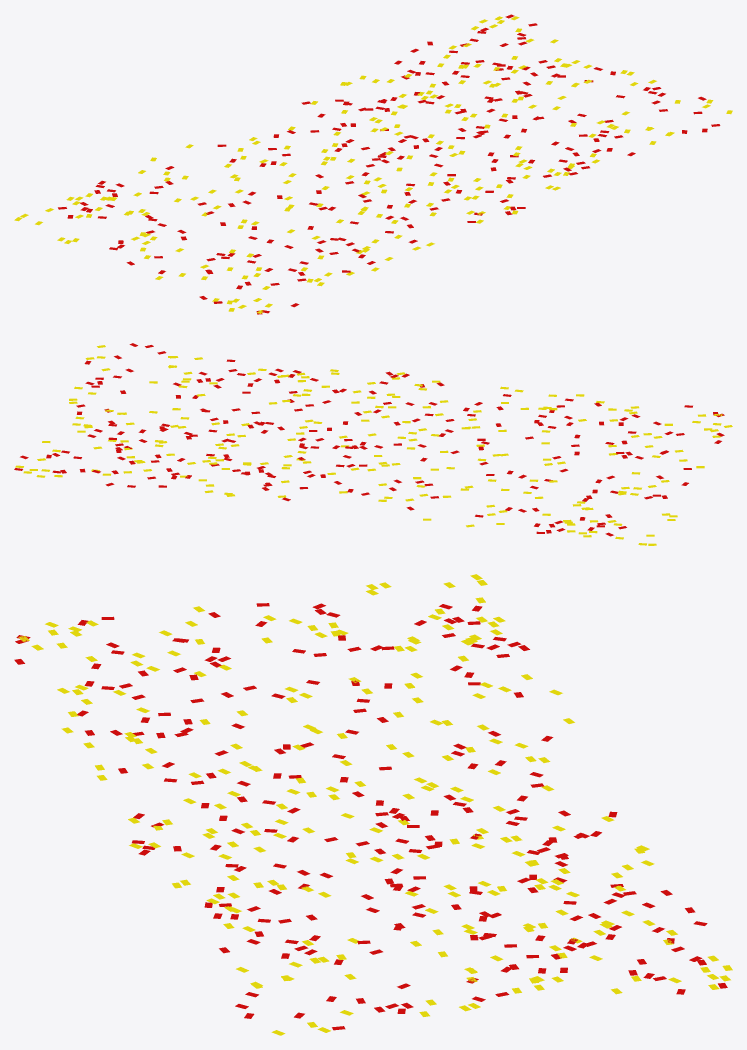
Rendered from confetti.fbx.
3 renders of one model, top to bottom at view 1: azimuth 30°, elevation 25°; view 2: azimuth 150°, elevation 25°; view 3: azimuth 270°, elevation 25°, orthographic. The views are drawn at different scales.
Parts seen in each view (by area): view 1: Confettis_01; view 2: Confettis_01; view 3: Confettis_01.
Part boxes in pixels (box(x1,y1,x2,y2)): Confettis_01: box(14, 14, 732, 314); Confettis_01: box(14, 343, 732, 545); Confettis_01: box(14, 574, 732, 1035).
Bounding box in the file's own units: 217 × 1.35e-05 × 143.
